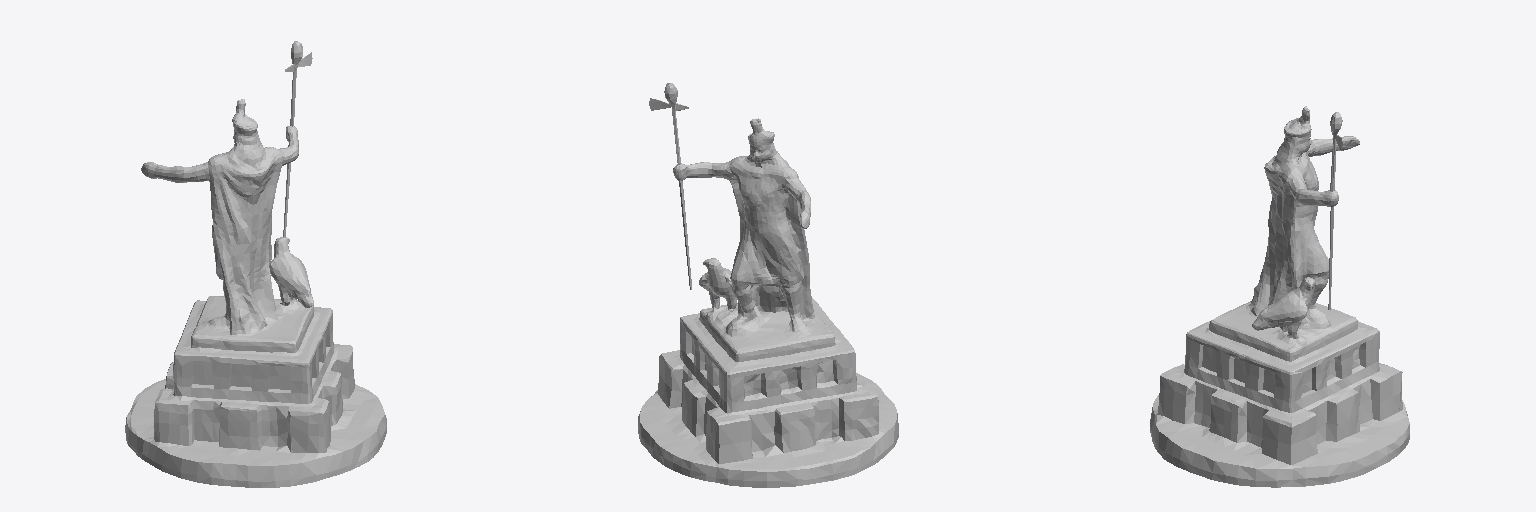
Rendered from EstatuaInca.obj.
3 renders of one model, left to right at view 1: azimuth 30°, elevation 25°; view 2: azimuth 150°, elevation 25°; view 3: azimuth 270°, elevation 25°, orthographic.
Visible parts, largest first — view 1: Estatua_Inca; view 2: Estatua_Inca; view 3: Estatua_Inca.
Boxes of the visible parts, box(x1,y1,x2,y2) form: Estatua_Inca: box(125, 41, 386, 487); Estatua_Inca: box(638, 83, 898, 487); Estatua_Inca: box(1150, 106, 1409, 487).
Size of the model in its own units: 12.82 by 19.22 by 12.85.